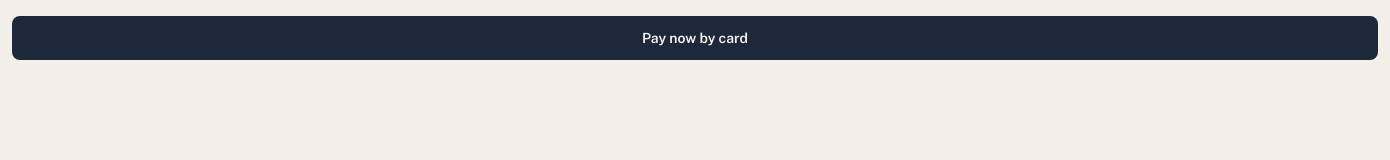
Test case: omits the contact line for a transient 429 rate-limit error
What coordinates should you click on to do the following:
click the button "Pay now by card"
I would click on:
 (695, 38)
Its box is [12, 16, 1378, 60].
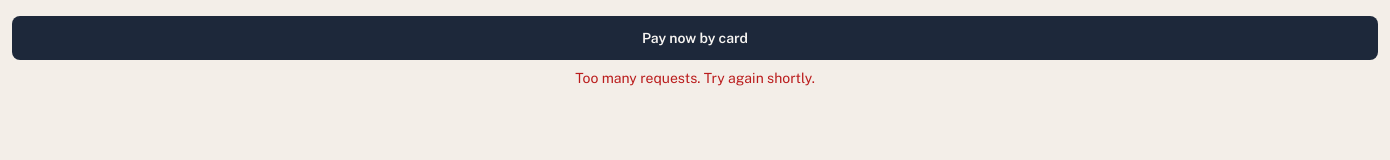
Expected: the message does not show "office@church.test", [575, 70, 815, 86]
Expected: the message shows "Too many requests", [575, 70, 815, 86]
